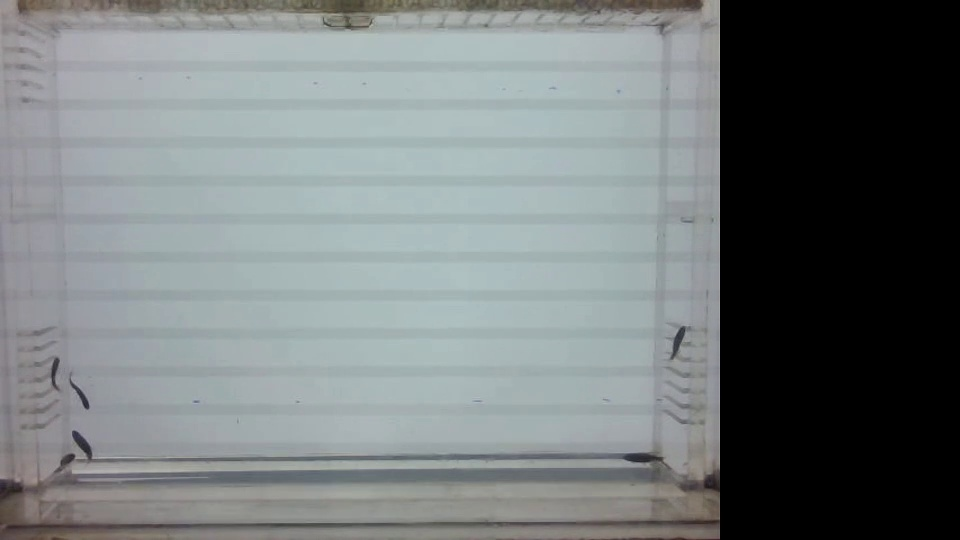fish: (62, 368, 101, 416), (613, 440, 660, 476), (660, 316, 688, 368), (38, 345, 64, 400), (69, 426, 100, 462), (52, 453, 76, 484)
